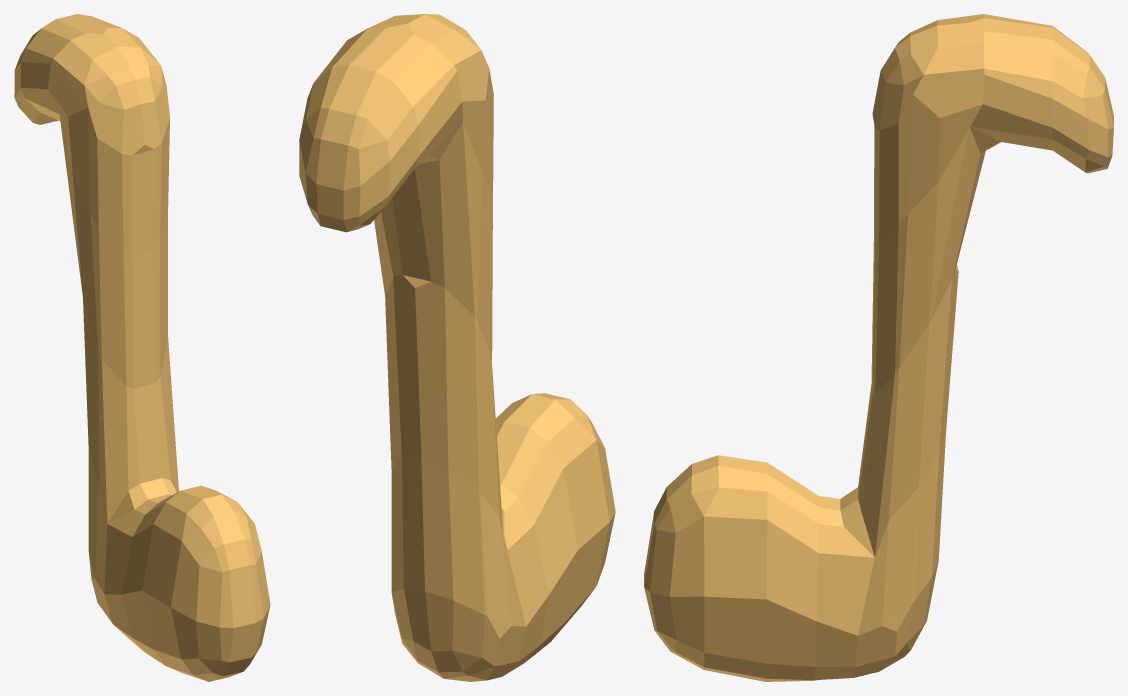
File: Music.fbx
The picture shows the model from 3 angles, left to right: view 1: azimuth 30°, elevation 25°; view 2: azimuth 150°, elevation 25°; view 3: azimuth 270°, elevation 25°; orthographic projection. The views are drawn at different scales.
Visible parts, largest first — view 1: Куб; view 2: Куб; view 3: Куб.
Boxes of the visible parts, x1,y1,x2,y2 form: Куб: (14,14,270,681); Куб: (299,14,615,681); Куб: (644,14,1113,681).
Size of the model in its own units: 43.95 by 67.48 by 12.11.
